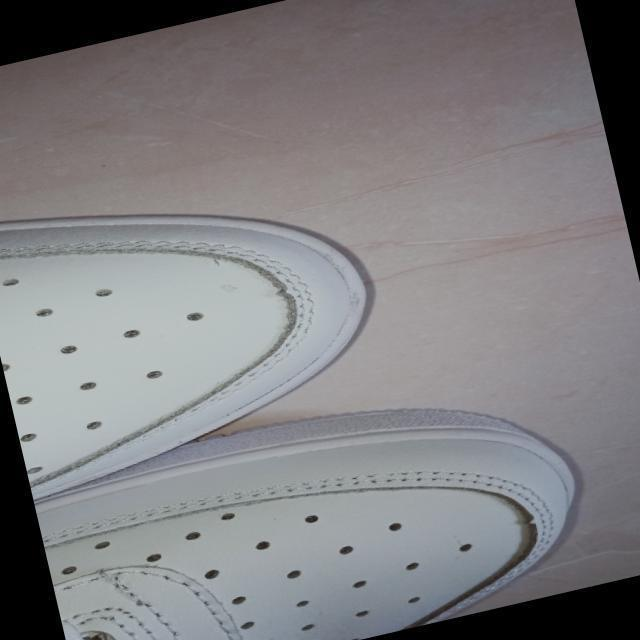nike fake air force: (28, 354, 612, 640), (0, 118, 400, 501)
